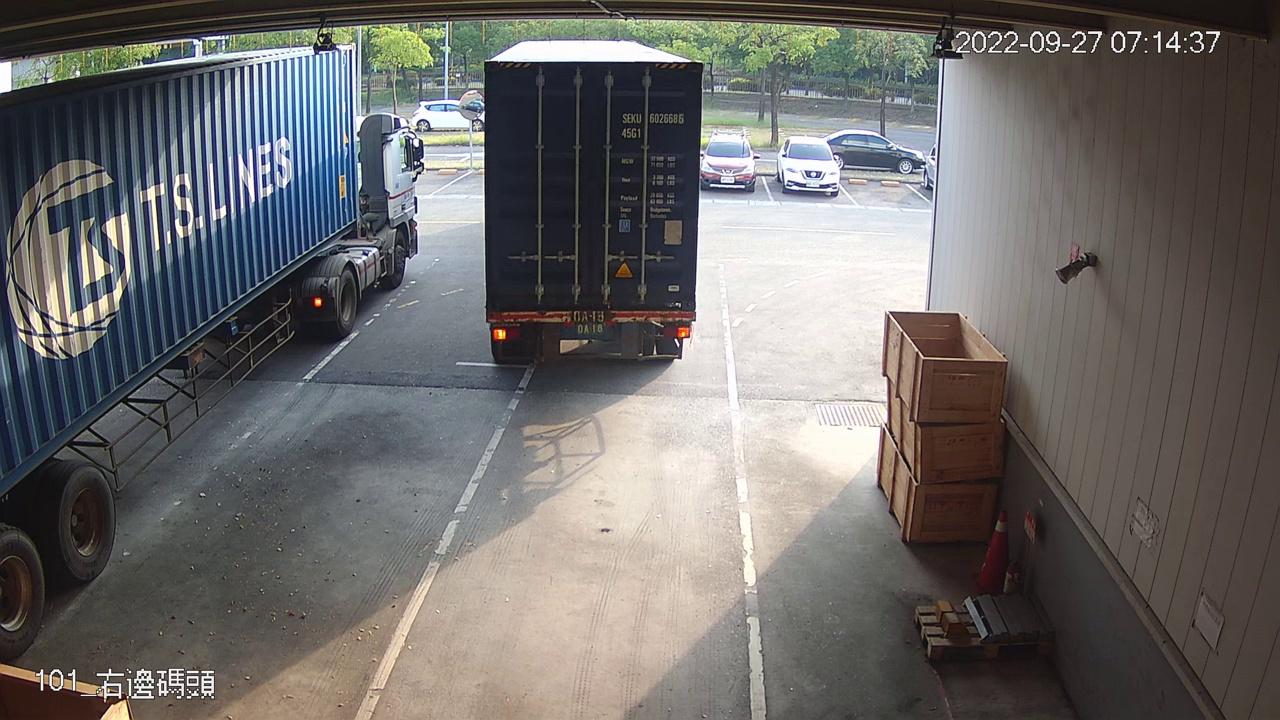container: (616, 108, 690, 147)
